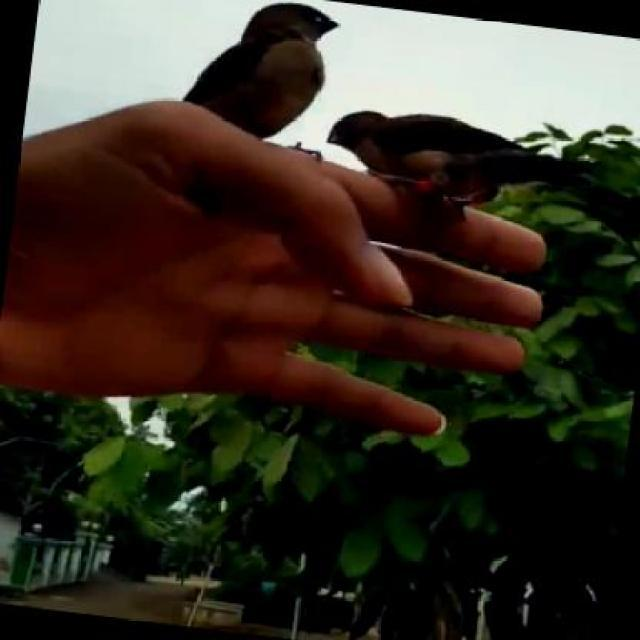Bird: (324, 103, 592, 198), (188, 2, 340, 143)
